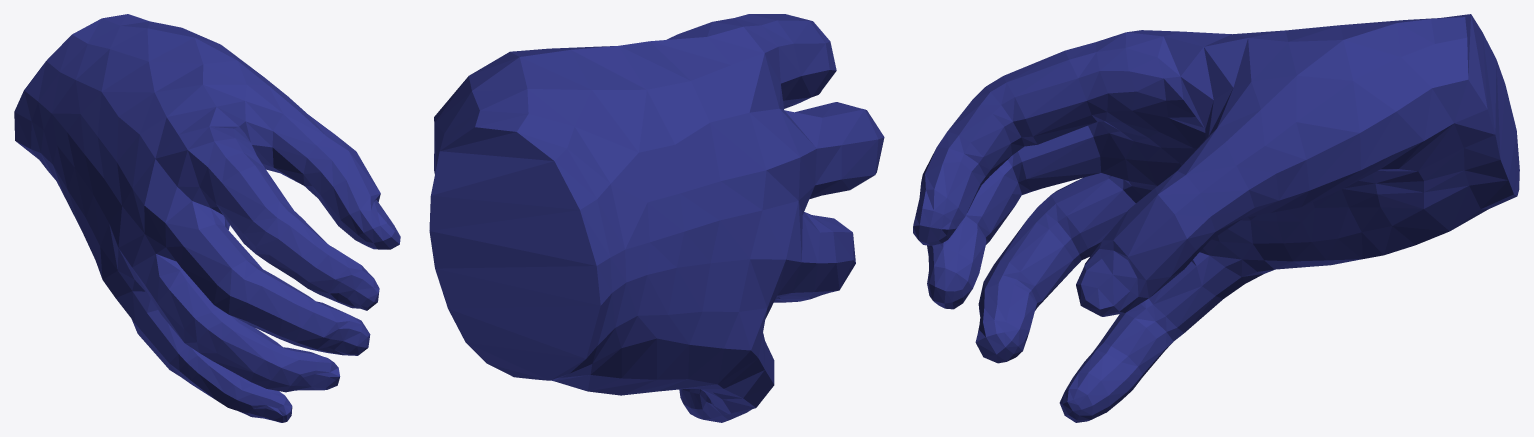
3 renders of one model, left to right at view 1: azimuth 30°, elevation 25°; view 2: azimuth 150°, elevation 25°; view 3: azimuth 270°, elevation 25°, orthographic. The views are drawn at different scales.
Size of the model in its own units: 0.0964 by 0.1188 by 0.1664.
